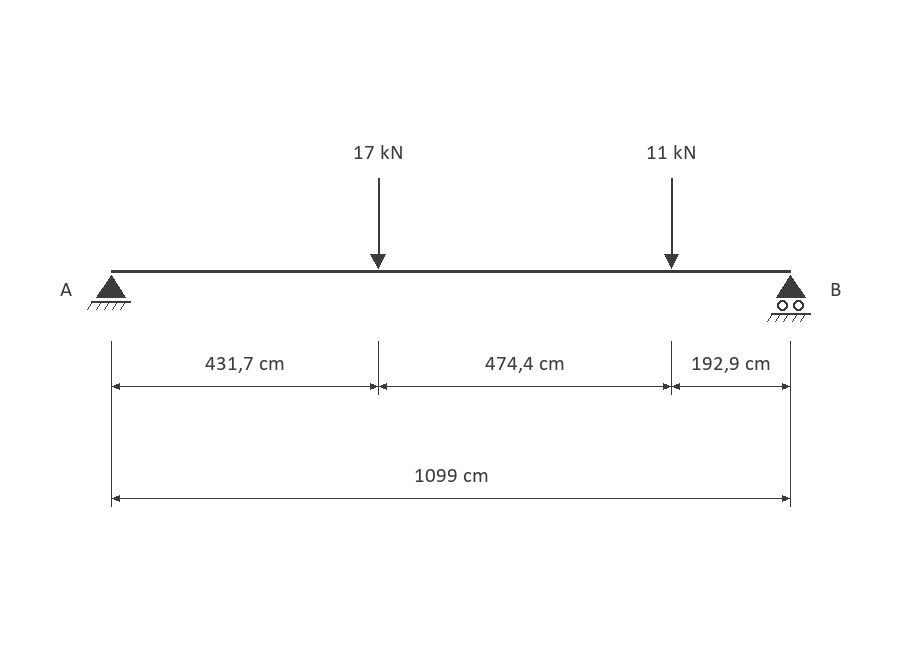pin_support: (87, 275, 131, 310)
point_load: (370, 178, 386, 269), (664, 178, 679, 269)
roller_support: (767, 275, 811, 322)
